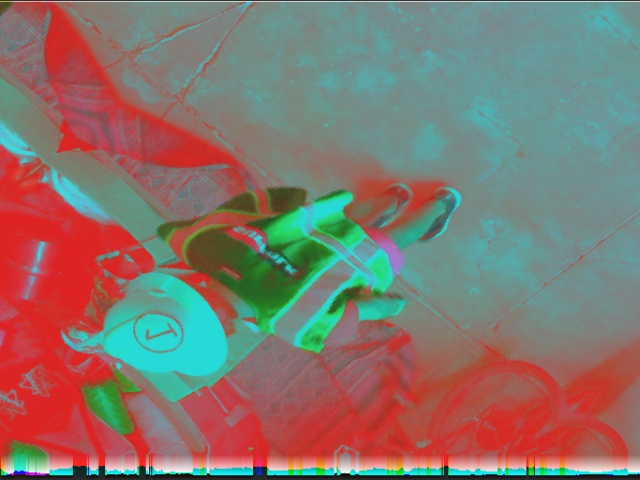one: (121, 303, 191, 361)
